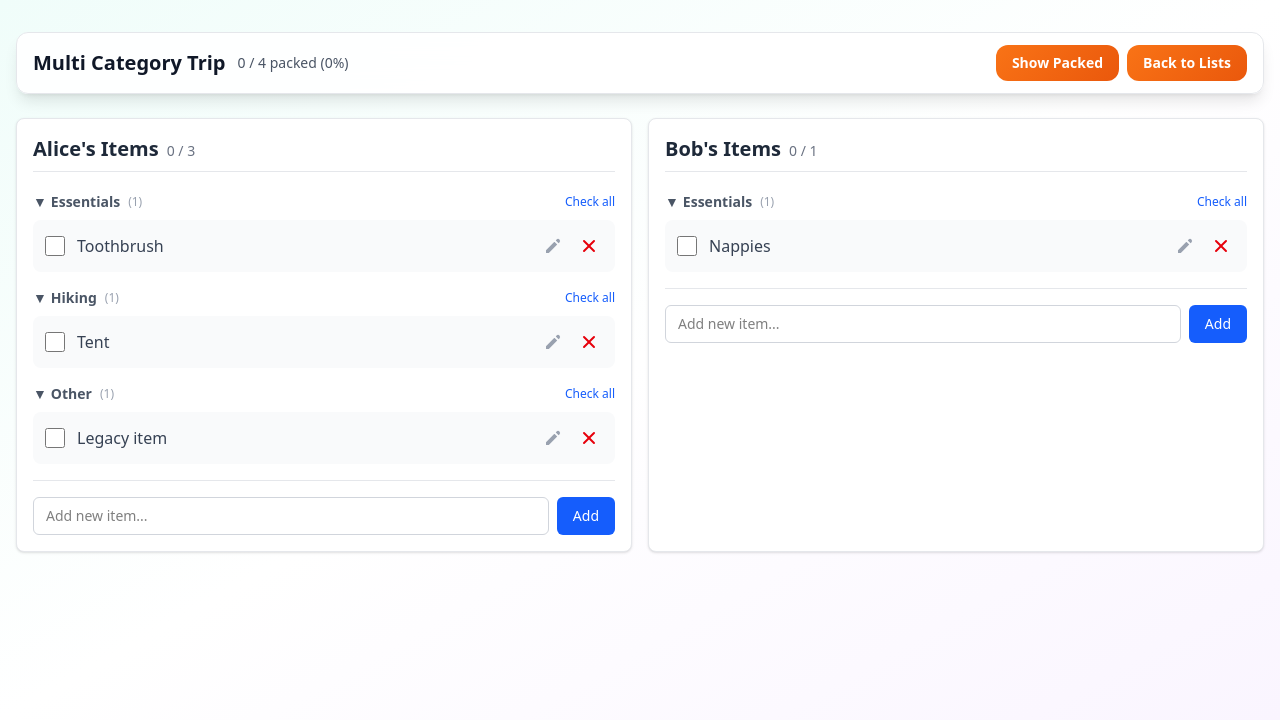
Test: ViewPackingList category grouping › re-expands a category when its toggle is clicked again
Expected: the text "Tent" is shown, [77,330,110,354]
Click the button with aria-label "Collapse Hiking".
click(76, 298)  # box [33,288,119,308]
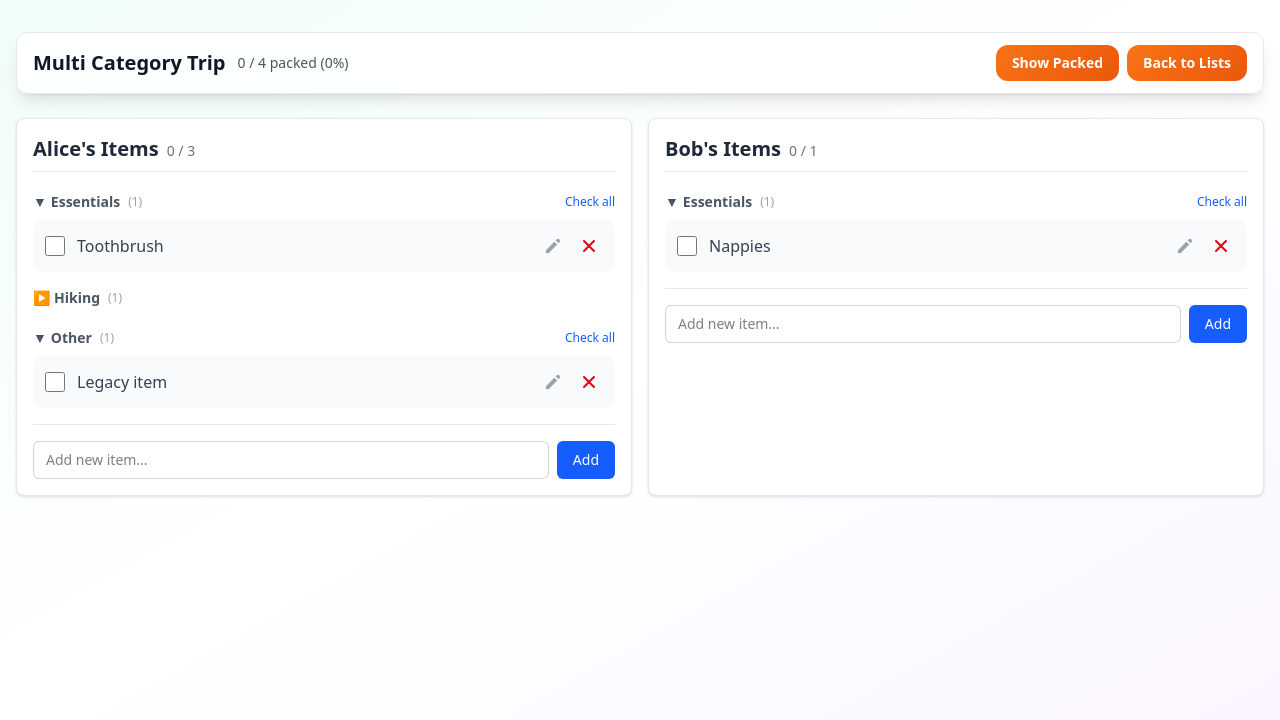
Click the button with aria-label "Expand Hiking".
click(78, 298)  # box [33,288,122,308]
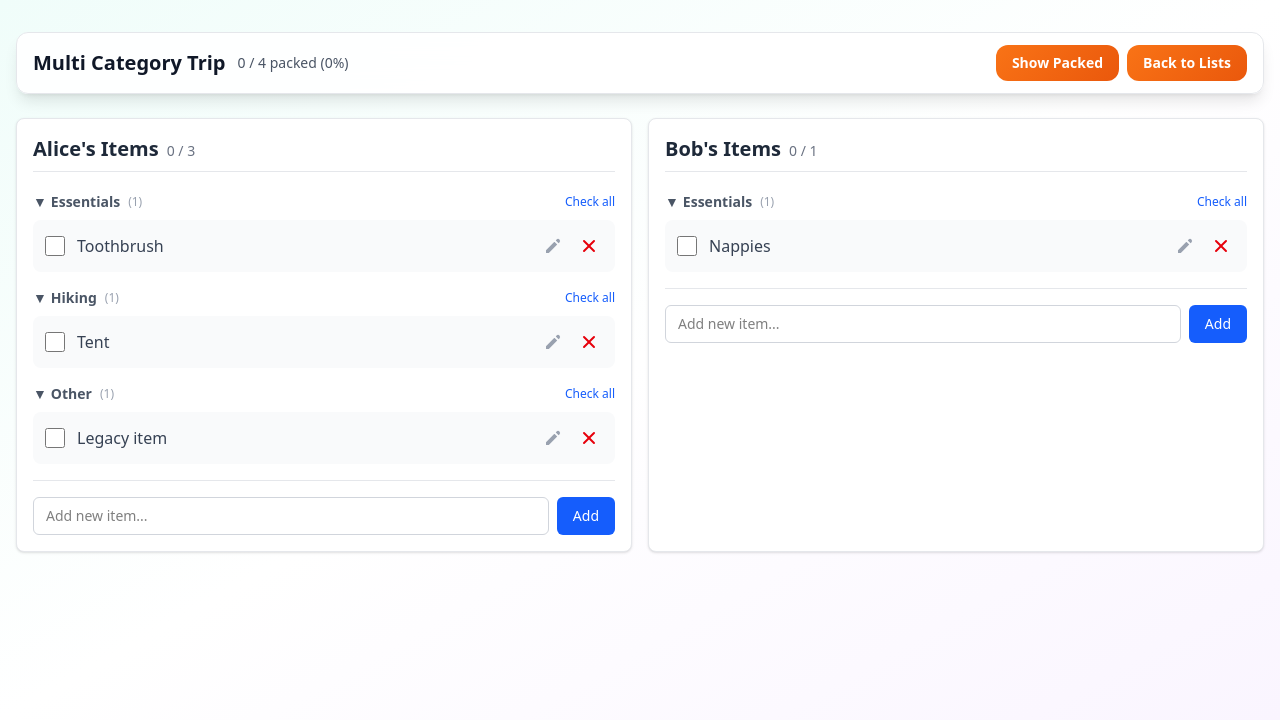
Expected: the text "Tent" is shown, [77,330,110,354]
